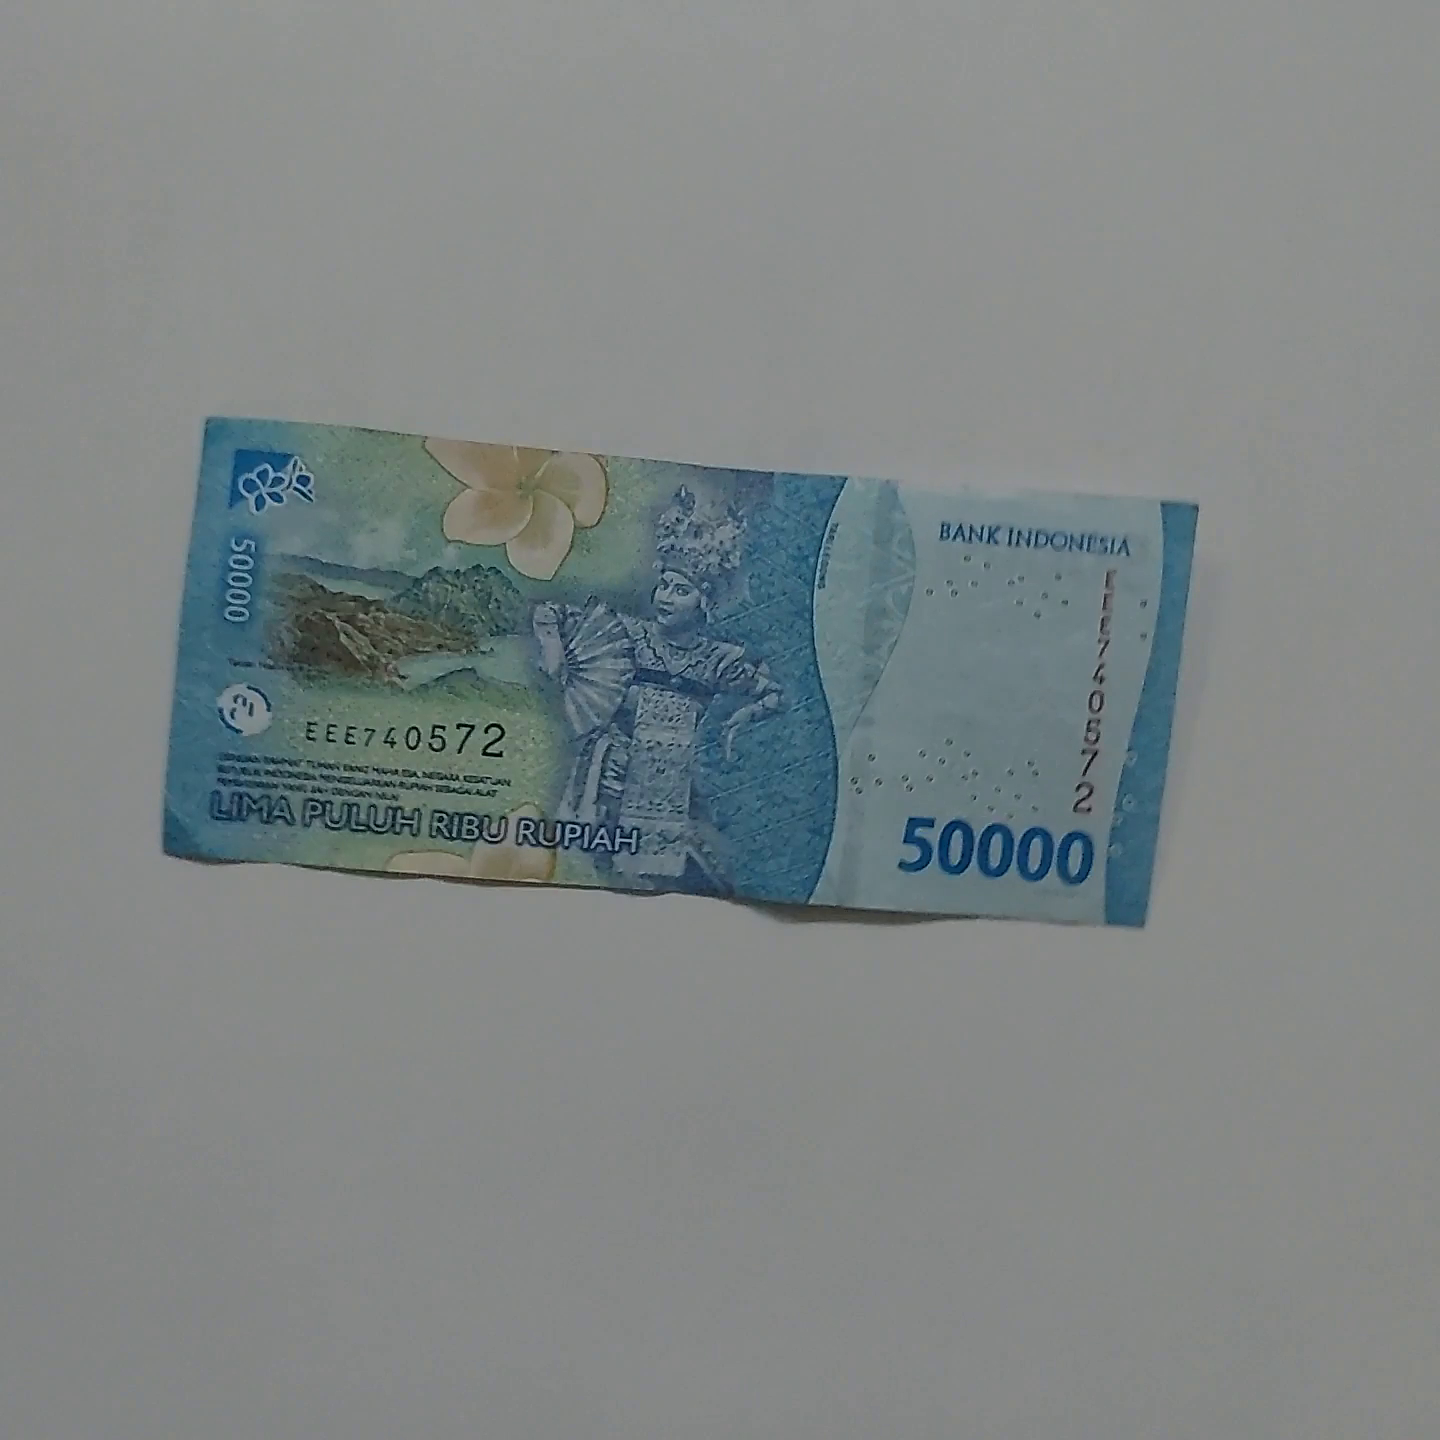50k: (137, 405, 1193, 955)
